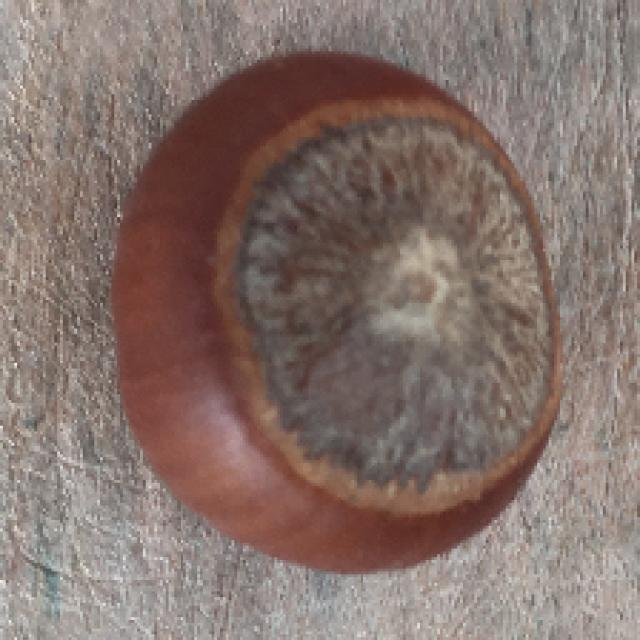qualityHazelnut: (107, 44, 568, 586)
